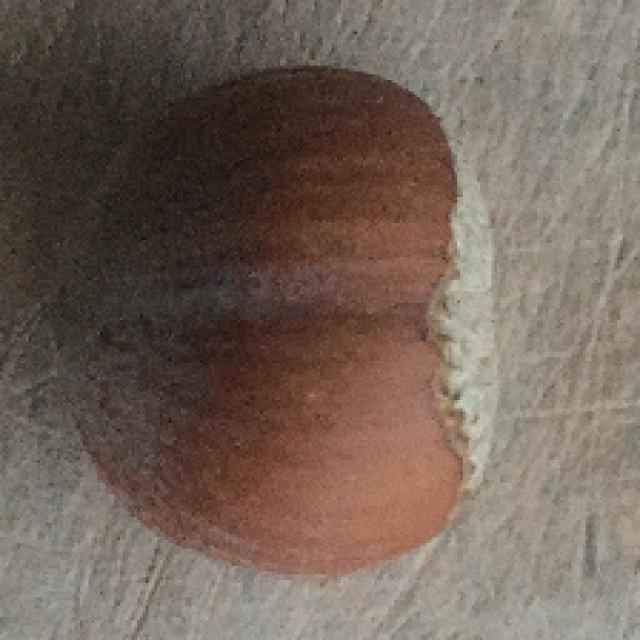qualityHazelnut: (38, 65, 498, 582)
